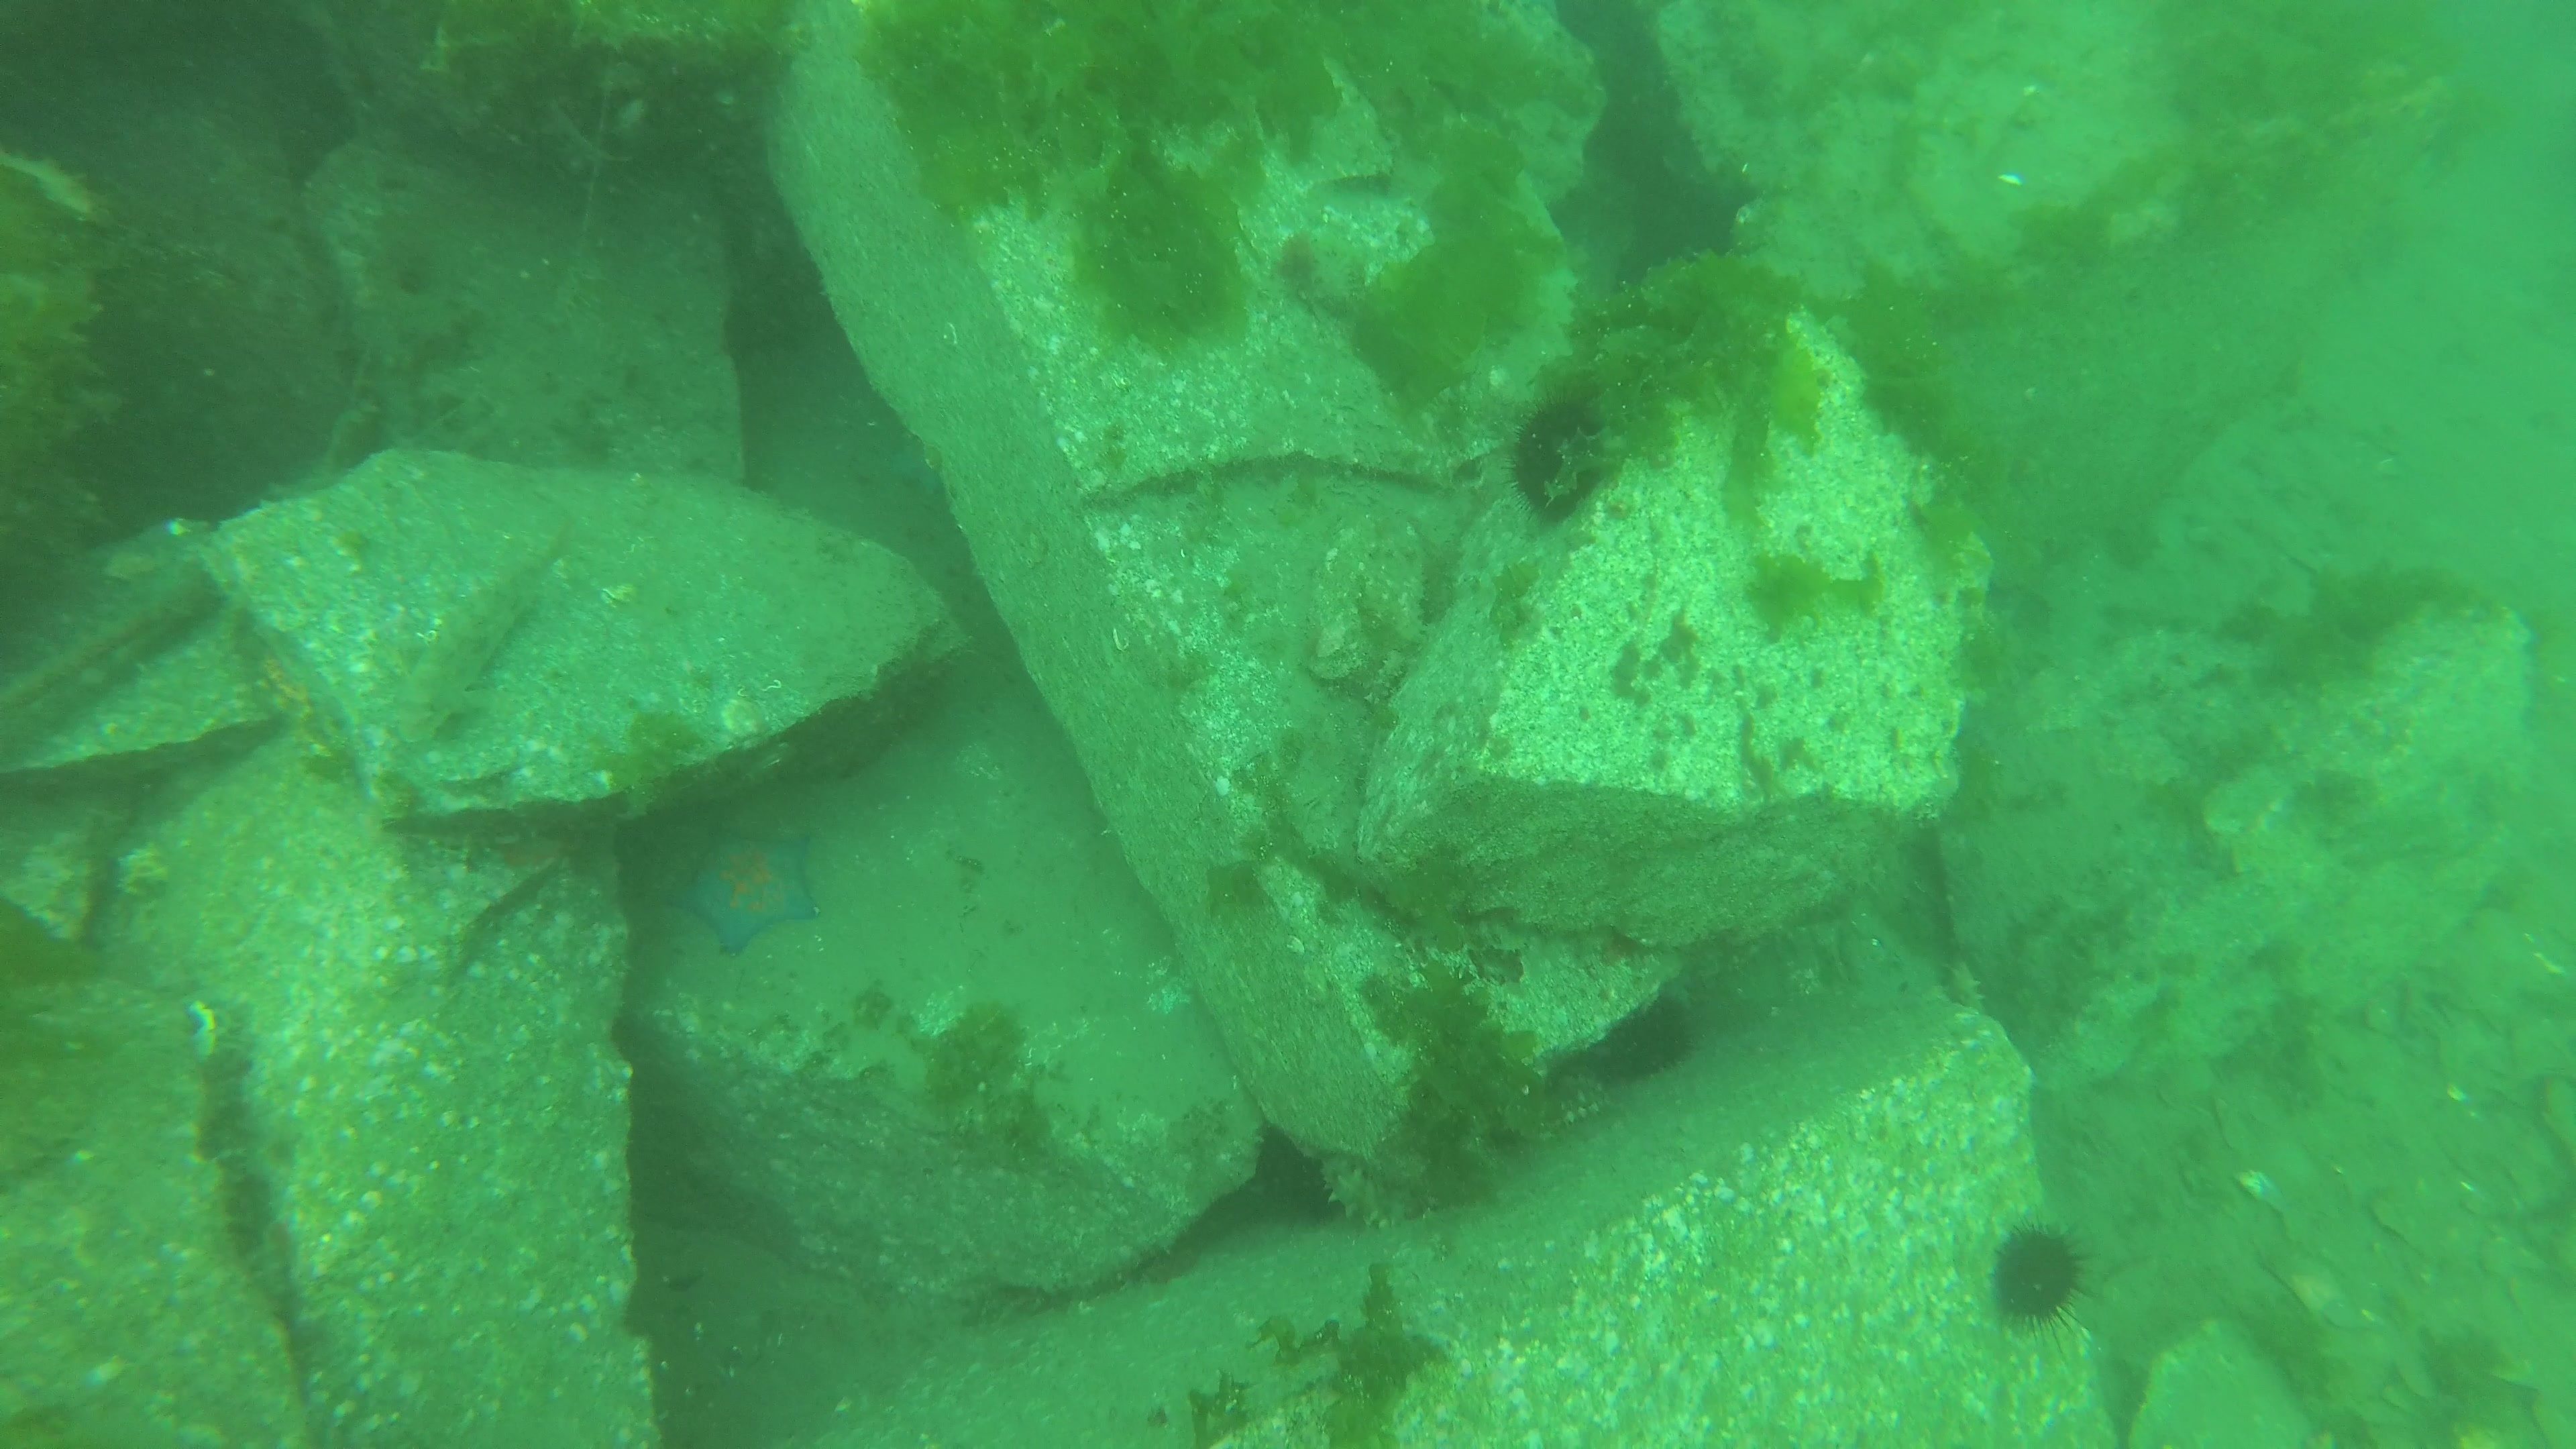echinus: (1987, 1214, 2102, 1355), (1502, 387, 1615, 527), (1603, 991, 1702, 1085)
holothurian: (1318, 1148, 1430, 1233), (1364, 649, 1408, 708)
starfish: (663, 828, 823, 957), (890, 442, 948, 497)
